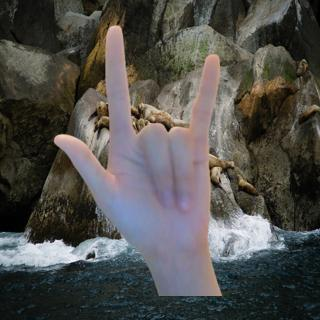ILY: (49, 22, 231, 268)
